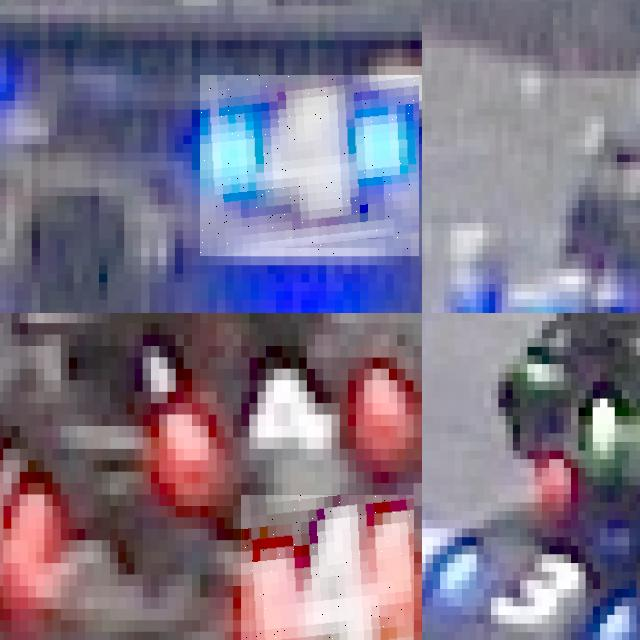B4: (200, 75, 419, 256)
R4: (241, 494, 413, 640), (0, 425, 52, 597)
